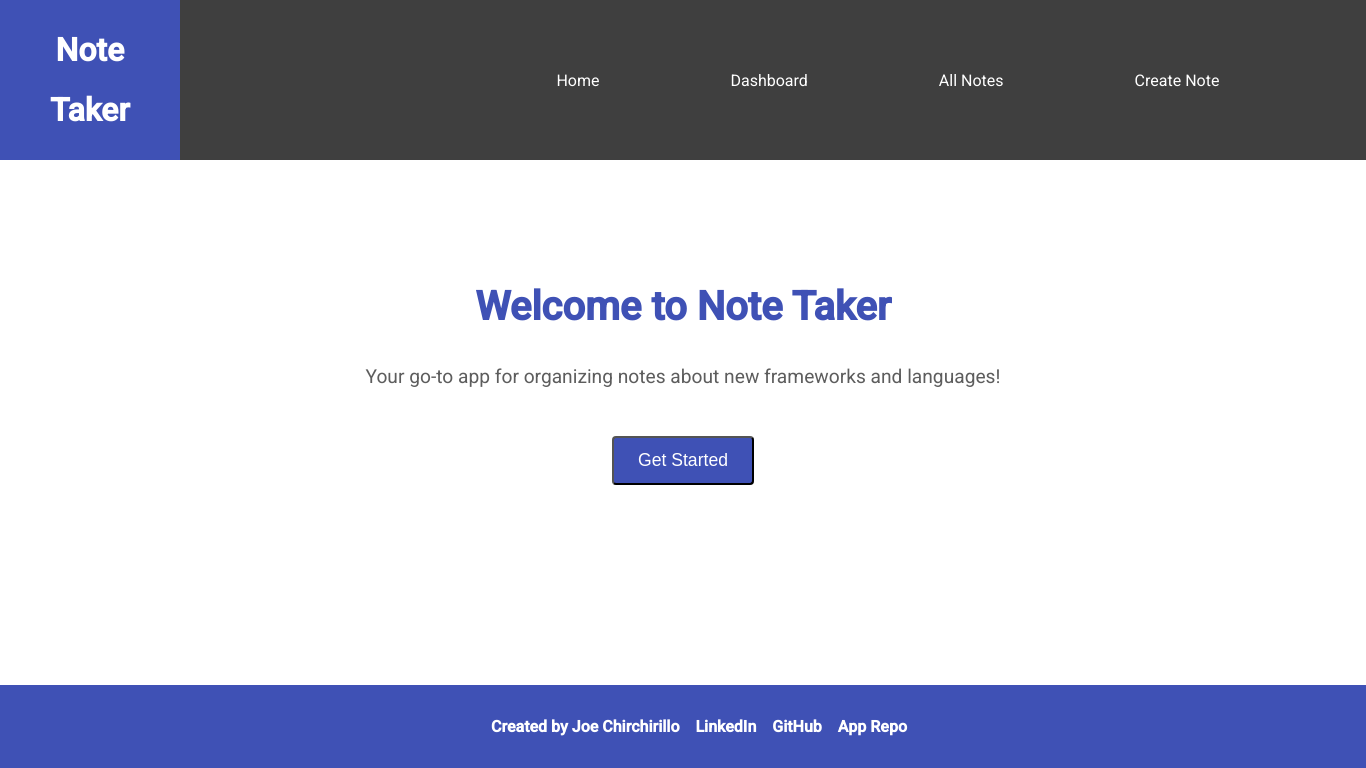
it: Sad Paths › displays error message for failure loading subject count
What coordinates should you click on to do the following:
click the button with class "cta-button"
I would click on:
 (683, 461)
Its box is [612,436,754,485].
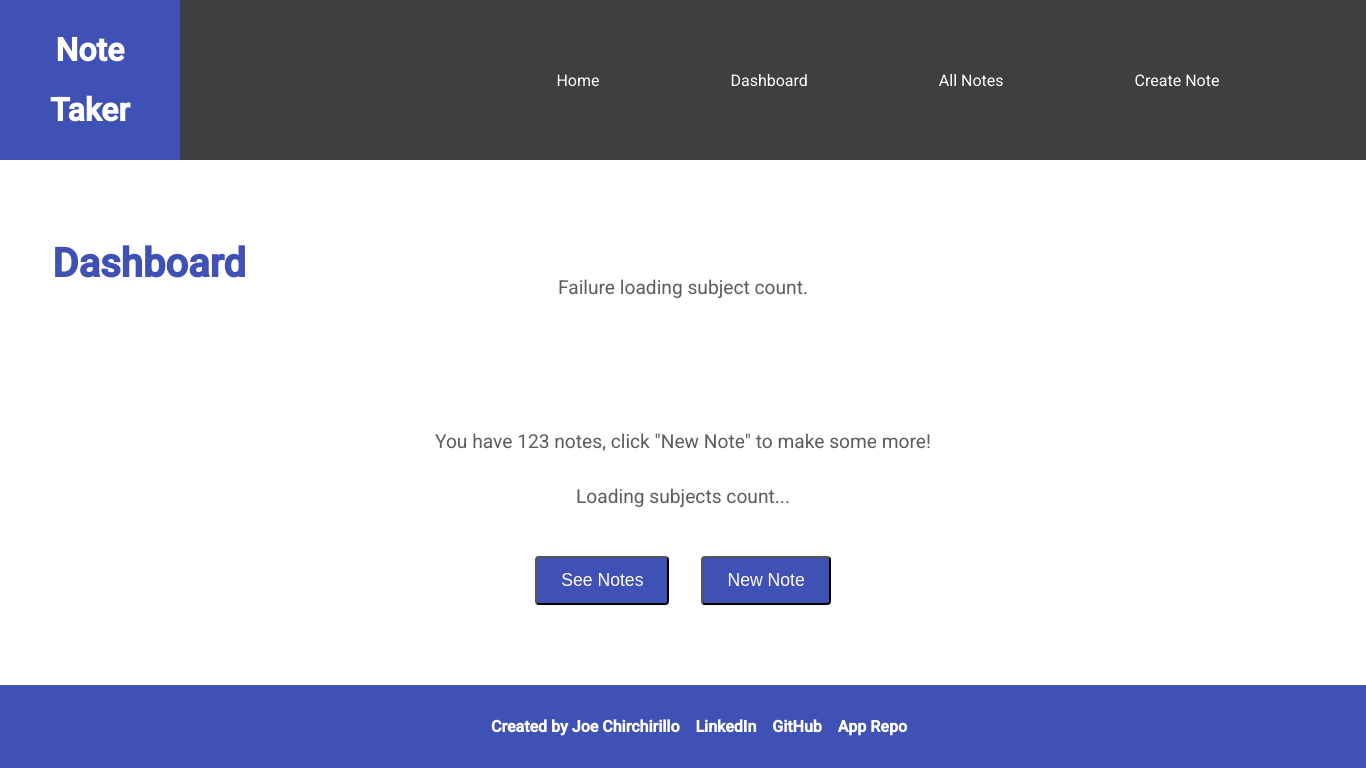
Now the text "Failure loading subject count." is shown, box [558,276,808,298]
Now the text with class "error-message" reads "Failure loading subject count.", box [558,276,808,299]
